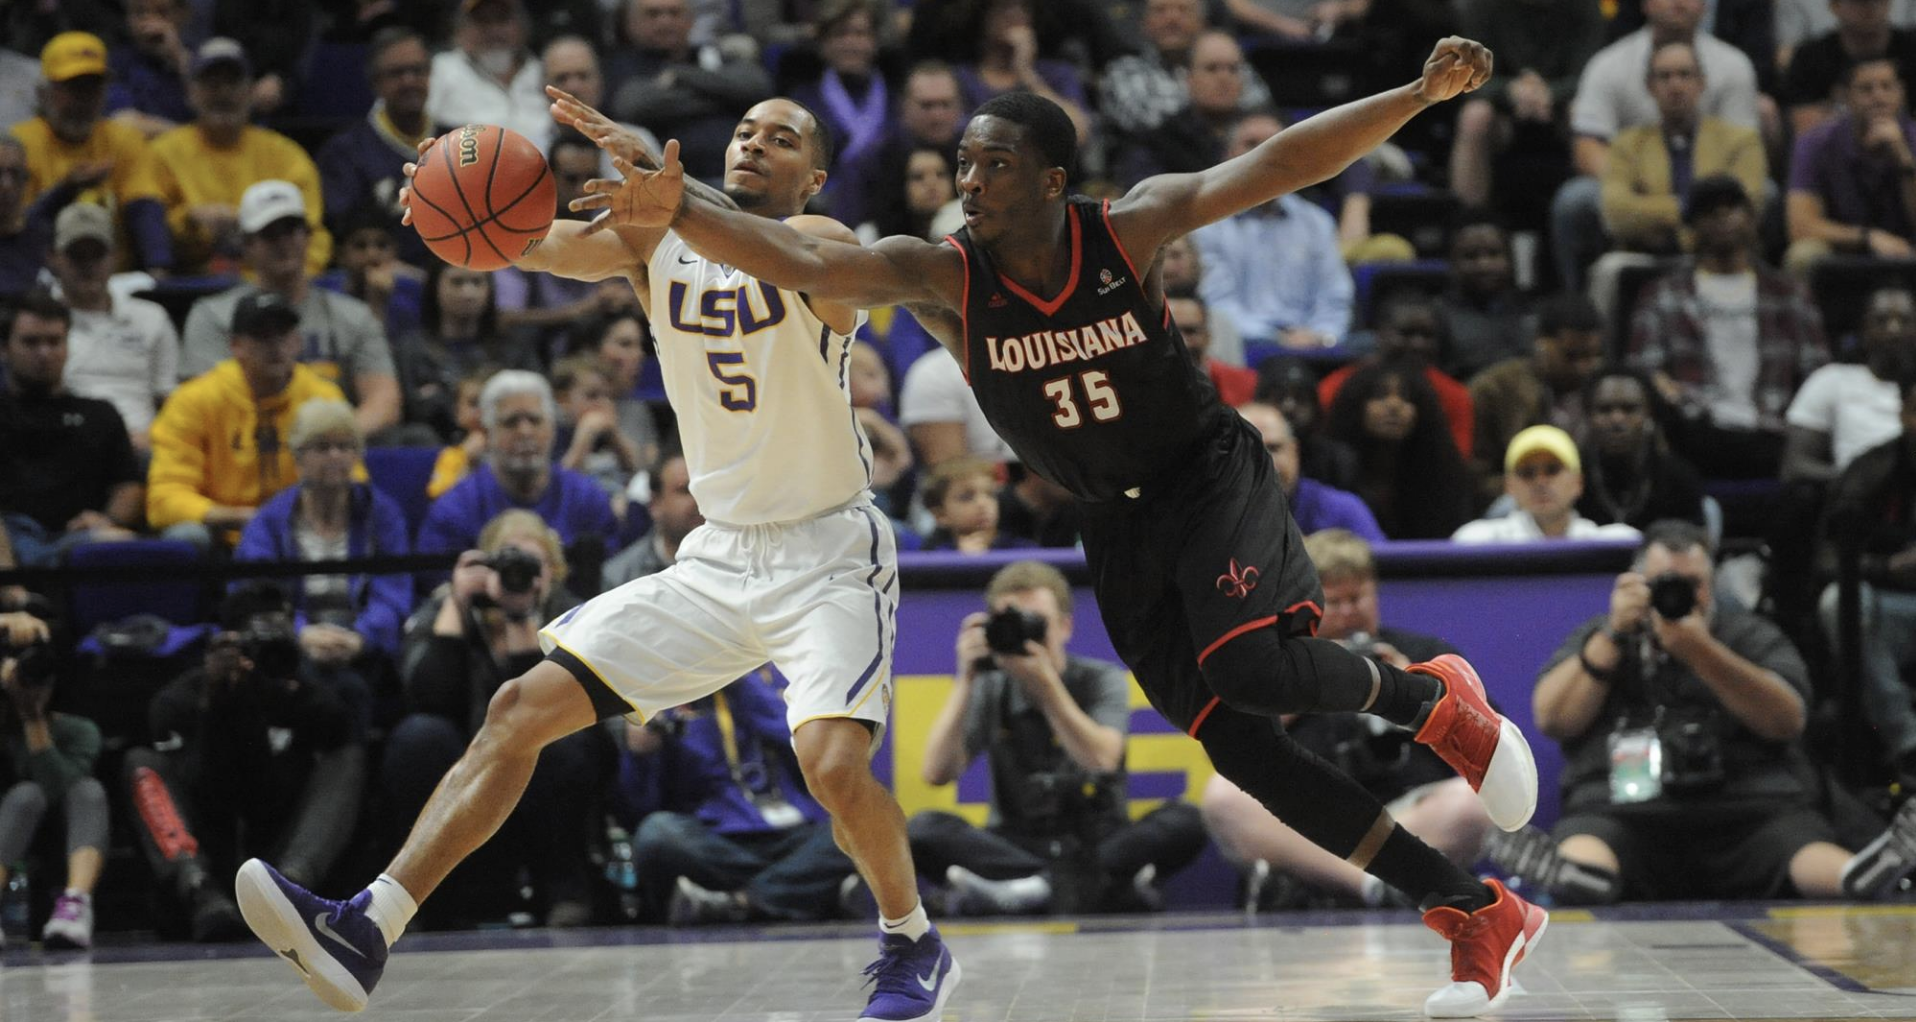ball: (394, 123, 561, 277)
player: (652, 21, 1543, 1022), (245, 89, 933, 1022)
